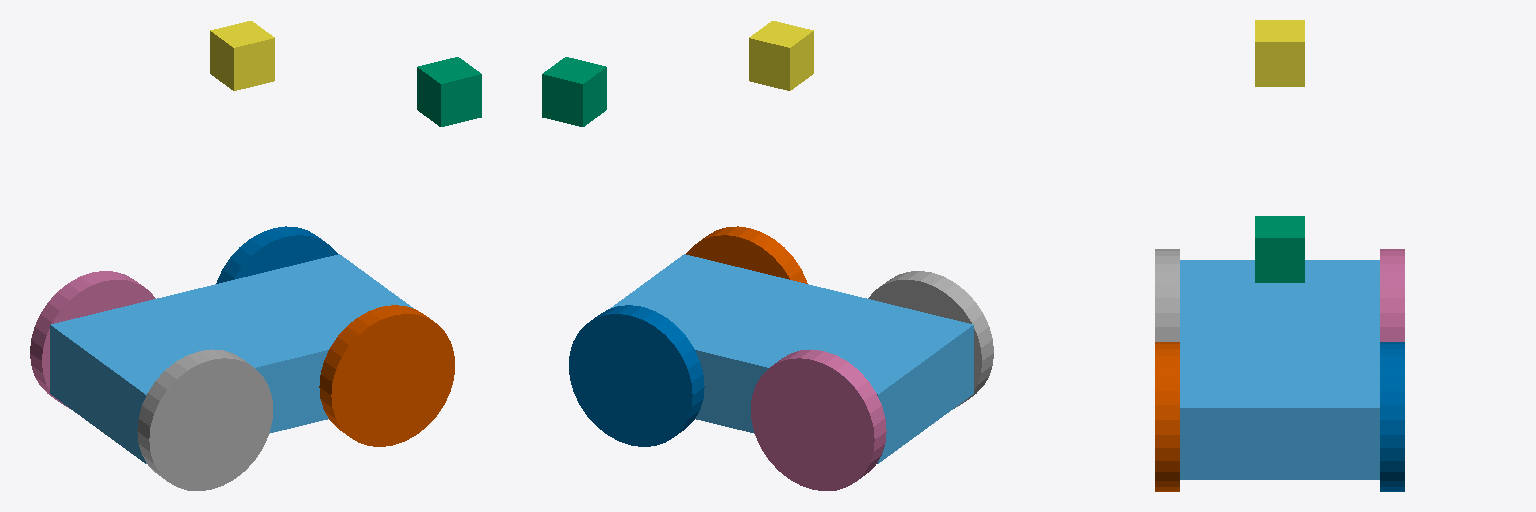
The robot description file, URDF, robot "autolabor_description":
<?xml version="1.0"?>
<robot name="autolabor_description">
  <joint name="dummy_joint" type="fixed">
    <parent link="base_link"/>
    <child link="body"/>
    <origin xyz="0 0 0.15" rpy="0 0 0"/>
  </joint>

  <joint name="cam_joint" type="fixed">
    <parent link="body"/>
    <child link="camera"/>
    <origin xyz="0.5 0 0.5" rpy="0 1.570796327 0"/>
  </joint>
  <joint name="ray_joint" type="fixed">
    <parent link="body"/>
    <child link="ray"/>
    <origin xyz="0 0 0.7" rpy="0 0 0"/>
  </joint>
  <joint name="fljoint" type="revolute">
    <parent link="body"/>
    <child link="flw"/>
    <origin rpy="-1.570796327 0  0" xyz="0.22  0.225 0"/>
    <axis xyz="0 0 1"/>
    <limit effort="50" lower="-1.79769e+308" upper="1.79769e+308" velocity="50"/>
  </joint>
  <joint name="frjoint" type="revolute">
    <parent link="body"/>
    <child link="frw"/>
    <origin rpy="-1.570796327 0  00" xyz="0.22  -0.225 0"/>
    <axis xyz="0 0 1"/>
    <limit effort="50" lower="-1.79769e+308" upper="1.79769e+308" velocity="50"/>
  </joint>
  <joint name="bljoint" type="revolute">
    <parent link="body"/>
    <child link="blw"/>
    <origin rpy="-1.570796327 0  0" xyz="-0.22 0.225 0"/>
    <axis xyz="0 0 1"/>
    <limit effort="50" lower="-1.79769e+308" upper="1.79769e+308" velocity="50"/>
  </joint>
  <joint name="brjoint" type="revolute">
    <parent link="body"/>
    <child link="brw"/>
    <origin rpy="-1.570796327 0  0" xyz="-0.22 -0.225 0"/>
    <axis xyz="0 0 1"/>
    <limit effort="50" lower="-1.79769e+308" upper="1.79769e+308" velocity="50"/>
  </joint>
  <link name="base_link"/>
  <link name="body">
    <inertial>
      <mass value="1"/>
      <origin rpy="0  0  0" xyz="0  0  0"/>
      <inertia ixx="0.00197627" ixy="0" ixz="0" iyy="0.00074732" iyz="0" izz="0.00251257"/>
    </inertial>
    <collision>
      <origin rpy="0  0  0" xyz="0  0  0"/>
      <geometry>
        <box size="0.7 0.4 0.16"/>
      </geometry>
    </collision>
    <visual>
      <origin rpy="0  0  0" xyz="0  0  0"/>
      <geometry>
        <box size="0.7 0.4 0.16"/>
      </geometry>
    </visual>
  </link>

  <link name="camera">
    <inertial>
      <mass value="0.001"/>
      <origin rpy="0 0 0" xyz="0 0 0"/>
      <inertia ixx="0.000166667" iyy="0.000166667" izz="0.000166667" ixy="0" ixz="0" iyz="0"/>
    </inertial>
    <collision>
      <origin rpy="0 0 0" xyz="0 0 0"/>
      <geometry>
        <box size="0.1 0.1 0.1"/>
      </geometry>
    </collision>
    <visual>
      <origin rpy="0 0 0" xyz="0 0 0"/>
      <geometry>
        <box size="0.1 0.1 0.1"/>
      </geometry>
    </visual>
  </link>
  <link name="ray">
    <inertial>
      <mass value="0.001"/>
      <origin rpy="0 0 0" xyz="0 0 0"/>
      <inertia ixx="0.000166667" iyy="0.000166667" izz="0.000166667" ixy="0" ixz="0" iyz="0"/>
    </inertial>
    <collision>
      <origin rpy="0 0 0" xyz="0 0 0"/>
      <geometry>
        <box size="0.1 0.1 0.1"/>
      </geometry>
    </collision>
    <visual>
      <origin rpy="0 0 0" xyz="0 0 0"/>
      <geometry>
        <box size="0.1 0.1 0.1"/>
      </geometry>
    </visual>
  </link>
  <link name="flw">
    <inertial>
      <mass value="0.8"/>
      <origin rpy="0  0  0" xyz="0  0  0"/>
      <inertia ixx="3.235e-05" ixy="0" ixz="0" iyy="3.235e-05" iyz="0" izz="6.12e-05"/>
    </inertial>
    <collision>
      <origin rpy="0  0  0" xyz="0  0  0"/>
      <geometry>
        <cylinder length="0.05" radius="0.15"/>
      </geometry>
    </collision>
    <visual>
      <origin rpy="0  0  0" xyz="0  0  0"/>
      <geometry>
        <cylinder length="0.05" radius="0.15"/>
      </geometry>
    </visual>
  </link>
  <link name="frw">
    <inertial>
      <mass value="0.8"/>
      <origin rpy="0  0  0" xyz="0  0  0"/>
      <inertia ixx="3.235e-05" ixy="0" ixz="0" iyy="3.235e-05" iyz="0" izz="6.12e-05"/>
    </inertial>
    <collision>
      <origin rpy="0  0  0" xyz="0  0  0"/>
      <geometry>
        <cylinder length="0.05" radius="0.15"/>
      </geometry>
    </collision>
    <visual>
      <origin rpy="0  0  0" xyz="0  0  0"/>
      <geometry>
        <cylinder length="0.05" radius="0.15"/>
      </geometry>
    </visual>
  </link>
  <link name="blw">
    <inertial>
      <mass value="0.8"/>
      <origin rpy="0  0  0" xyz="0  0  0"/>
      <inertia ixx="3.235e-05" ixy="0" ixz="0" iyy="3.235e-05" iyz="0" izz="6.12e-05"/>
    </inertial>
    <collision>
      <origin rpy="0  0  0" xyz="0  0  0"/>
      <geometry>
        <cylinder length="0.05" radius="0.15"/>
      </geometry>
    </collision>
    <visual>
      <origin rpy="0  0  0" xyz="0  0  0"/>
      <geometry>
        <cylinder length="0.05" radius="0.15"/>
      </geometry>
    </visual>
  </link>
  <link name="brw">
    <inertial>
      <mass value="0.8"/>
      <origin rpy="0  0  0" xyz="0  0  0"/>
      <inertia ixx="3.235e-05" ixy="0" ixz="0" iyy="3.235e-05" iyz="0" izz="6.12e-05"/>
    </inertial>
    <collision>
      <origin rpy="0  0  0" xyz="0  0  0"/>
      <geometry>
        <cylinder length="0.05" radius="0.15"/>
      </geometry>
    </collision>
    <visual>
      <origin rpy="0  0  0" xyz="0  0  0"/>
      <geometry>
        <cylinder length="0.05" radius="0.15"/>
      </geometry>
    </visual>
  </link>
  <transmission name="tran1">
    <type>transmission_interface/SimpleTransmission</type>
    <joint name="frjoint">
      <hardwareInterface>hardware_interface/VelocityJointInterface</hardwareInterface>
    </joint>
    <actuator name="motor1">
      <mechanicalReduction>1</mechanicalReduction>
    </actuator>
  </transmission>
  <transmission name="tran2">
    <type>transmission_interface/SimpleTransmission</type>
    <joint name="fljoint">
      <hardwareInterface>hardware_interface/VelocityJointInterface</hardwareInterface>
    </joint>
    <actuator name="motor2">
      <mechanicalReduction>1</mechanicalReduction>
    </actuator>
  </transmission>
  <transmission name="tran3">
    <type>transmission_interface/SimpleTransmission</type>
    <joint name="brjoint">
      <hardwareInterface>hardware_interface/VelocityJointInterface</hardwareInterface>
    </joint>
    <actuator name="motor3">
      <mechanicalReduction>1</mechanicalReduction>
    </actuator>
  </transmission>
  <transmission name="tran4">
    <type>transmission_interface/SimpleTransmission</type>
    <joint name="bljoint">
      <hardwareInterface>hardware_interface/VelocityJointInterface</hardwareInterface>
    </joint>
    <actuator name="motor4">
      <mechanicalReduction>1</mechanicalReduction>
    </actuator>
  </transmission>

  <gazebo reference="base_link">
    <mu1>20</mu1>
    <mu2>20</mu2>
  </gazebo>
  <gazebo reference="flw">
    <mu1>20</mu1>
    <mu2>20</mu2>
  </gazebo>
  <gazebo reference="frw">
    <mu1>20</mu1>
    <mu2>20</mu2>
  </gazebo>
  <gazebo reference="blw">
    <mu1>20</mu1>
    <mu2>20</mu2>
  </gazebo>
  <gazebo reference="brw">
    <mu1>20</mu1>
    <mu2>20</mu2>
  </gazebo>
  <sensor name="camera" update_rate="30.0">
    <parent link="camera"/>
    <origin xyz="0 0 0" rpy="0 0 0"/>
    <camera>
      <image width="1080" height="720" hfov="1.5" format="RGB8" near="0.1" far="10.0"/>
    </camera>
  </sensor>
  <sensor name="ray" update_rate="30.0">
    <parent link="ray"/>
    <origin xyz="0 0 0" rpy="0 0 0"/>
    <ray>
      <horizontal samples="100000" resolution="1" min_angle="-3.1415" max_angle="3.1415"/>
      <vertical samples="1" resolution="1" min_angle="0" max_angle="0"/>
    </ray>
  </sensor>  

  <gazebo reference="camera">
    <sensor type="camera" name="camera">
      <update_rate>60.0</update_rate>
      <camera>
        <horizontal_fov>1.5</horizontal_fov>
        <image>
          <width>1080</width>
          <height>720</height>
          <format>R8G8B8</format>
        </image>
        <clip>
          <near>0.1</near>
          <far>10</far>
        </clip>
      </camera>
      <plugin name="camera_controller" filename="libgazebo_ros_camera.so">
        <alwaysOn>true</alwaysOn>
        <updateRate>60.0</updateRate>
        <cameraName>camera1</cameraName>
        <imageTopicName>image_raw</imageTopicName>
        <cameraInfoTopicName>camera_info</cameraInfoTopicName>
        <frameName>camera</frameName>
      </plugin>
    </sensor>
  </gazebo>
  <gazebo reference="ray">
    <sensor type="ray" name="ray">
      <update_rate>60.0</update_rate>
      <ray>
        <scan>
          <horizontal>
            <samples>1000</samples>
            <resolution>1</resolution>
            <min_angle>-3.1415</min_angle>
            <max_angle>3.1415</max_angle>
          </horizontal>
          <vertical>
            <samples>100</samples>
            <resolution>1</resolution>
            <min_angle>-1.22</min_angle>
            <max_angle>0.3927</max_angle>
          </vertical>
        </scan>
        <range>
          <min>0.1</min>
          <max>10</max>
          <resolution>0.01</resolution>
        </range>
      </ray>
      <plugin name="ray_controller" filename="libgazebo_ros_block_laser.so">
        <topicName>scan</topicName>
        <frameName>ray</frameName>
      </plugin>
    </sensor>
  </gazebo>

  <gazebo>
    <plugin name="gazebo_ros_control" filename="libgazebo_ros_control.so">
      <robotSimType>gazebo_ros_control/DefaultRobotHWSim</robotSimType>
    </plugin>
  </gazebo>
</robot>

--- Render facts (derived) ---
The picture shows the robot from 3 angles, left to right: view 1: azimuth 30°, elevation 25°; view 2: azimuth 150°, elevation 25°; view 3: azimuth 270°, elevation 25°; orthographic projection.
Robot: autolabor_description — 8 links, 7 joints (4 revolute, 3 fixed); root link base_link; default pose: all joints at 0.
Links seen in each view (by area): view 1: body, frw, brw, blw, ray, camera, flw; view 2: body, flw, blw, brw, ray, camera, frw; view 3: body, flw, frw, camera, ray, blw, brw.
Link boxes in pixels (x1,y1,x2,y2): body: [50, 254, 413, 463]; frw: [319, 305, 454, 446]; brw: [137, 349, 272, 490]; blw: [30, 271, 155, 408]; ray: [210, 21, 274, 90]; camera: [417, 57, 481, 126]; flw: [216, 226, 337, 283]; body: [610, 254, 973, 463]; flw: [569, 305, 704, 446]; blw: [751, 349, 886, 490]; brw: [868, 271, 993, 408]; ray: [749, 21, 813, 90]; camera: [542, 57, 606, 126]; frw: [686, 226, 807, 283]; body: [1180, 260, 1379, 479]; flw: [1380, 342, 1404, 491]; frw: [1155, 342, 1179, 491]; camera: [1255, 216, 1304, 282]; ray: [1255, 20, 1304, 86]; blw: [1380, 249, 1404, 341]; brw: [1155, 249, 1179, 341].
Bounding box of the posed robot: 0.92 × 0.5 × 0.9 m (x, y, z).
Geometry: primitives only (box / cylinder / sphere), no mesh files.
